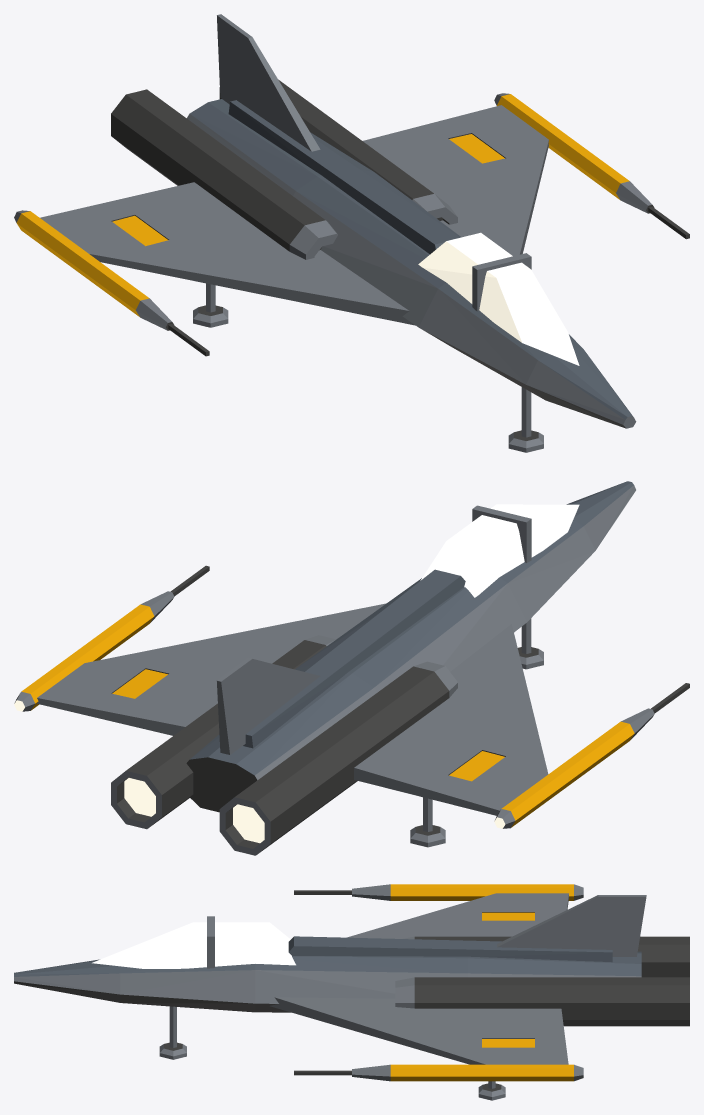
The model's file is swift_fighter.glb.
3 renders of one model, top to bottom at view 1: azimuth 30°, elevation 25°; view 2: azimuth 150°, elevation 25°; view 3: azimuth 270°, elevation 25°, orthographic. The views are drawn at different scales.
Visible parts, largest first — view 1: swift_fighter; view 2: swift_fighter; view 3: swift_fighter.
Part boxes in pixels (x1=…): swift_fighter: x1=14, y1=14, x2=689, y2=452; swift_fighter: x1=14, y1=481, x2=689, y2=855; swift_fighter: x1=14, y1=884, x2=689, y2=1100.
Size of the model in its own units: 4.59 by 1.8 by 7.
